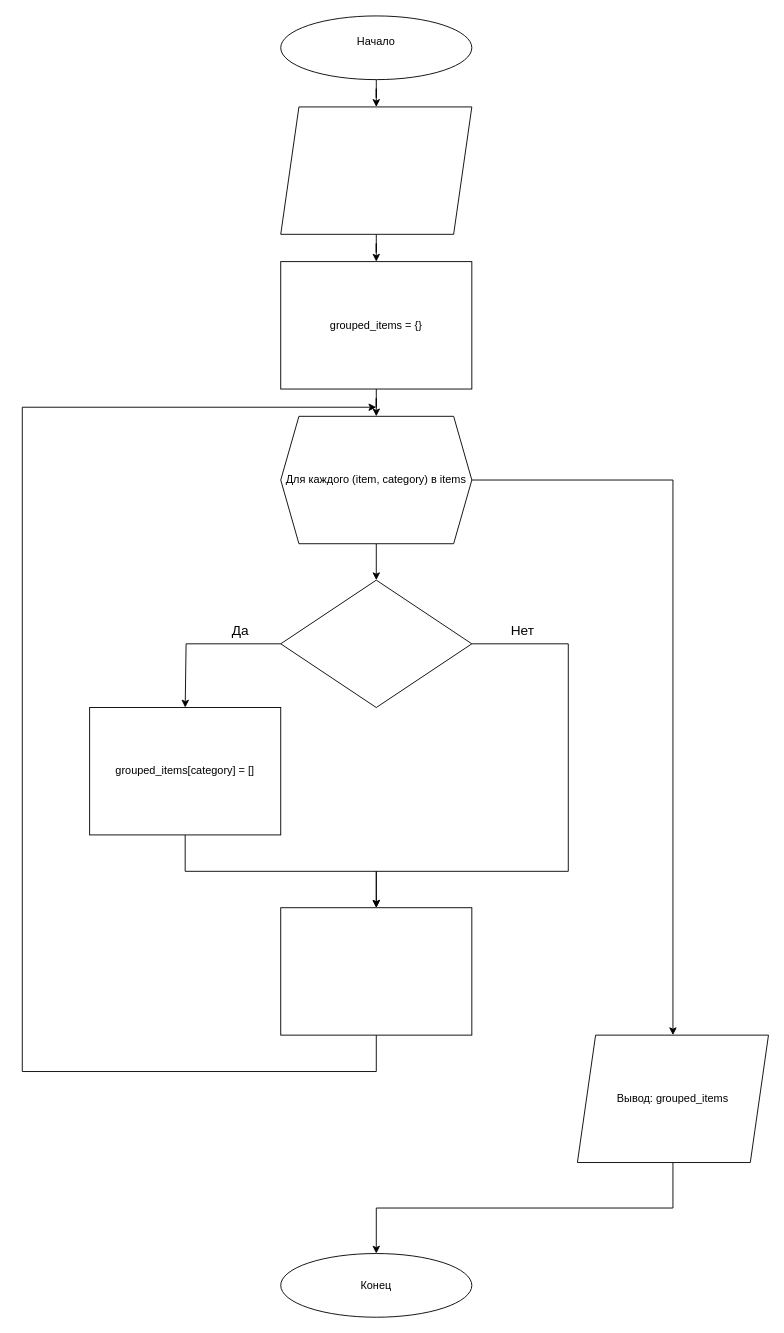
This 784x1333 diagram has some shape labels left out. The shapes that lost their labels are listed below. From the top down, each one's box as (x1, y1, x2, y2) in pixels, then its label:
(280, 106, 472, 234): Ввод: список кортежей items
(280, 579, 472, 708): category NOT в grouped_items?
(280, 907, 472, 1035): grouped_items[category].append(item)
